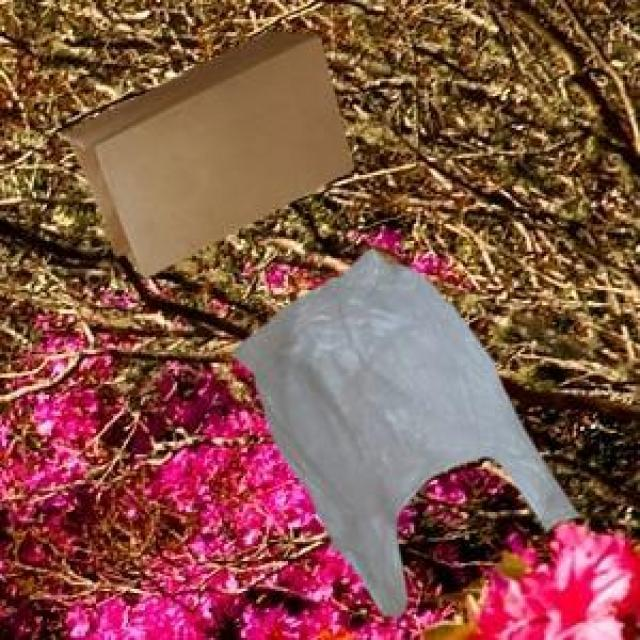paper: (62, 28, 350, 273)
